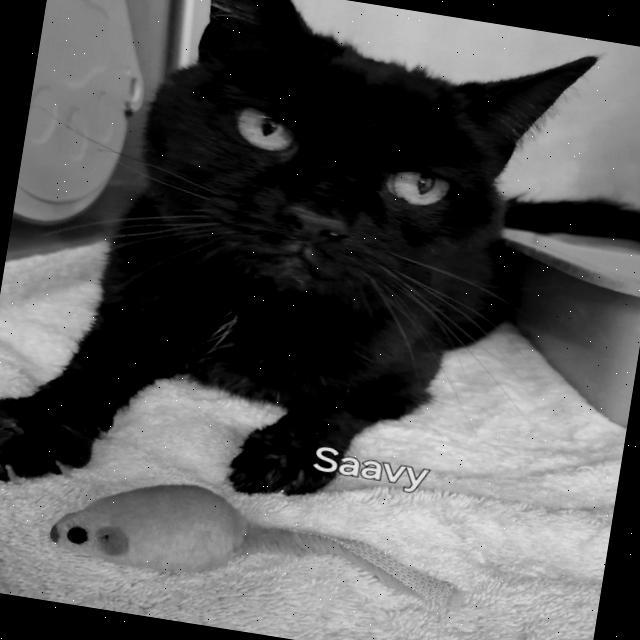bombay_cat: (86, 0, 606, 372)
